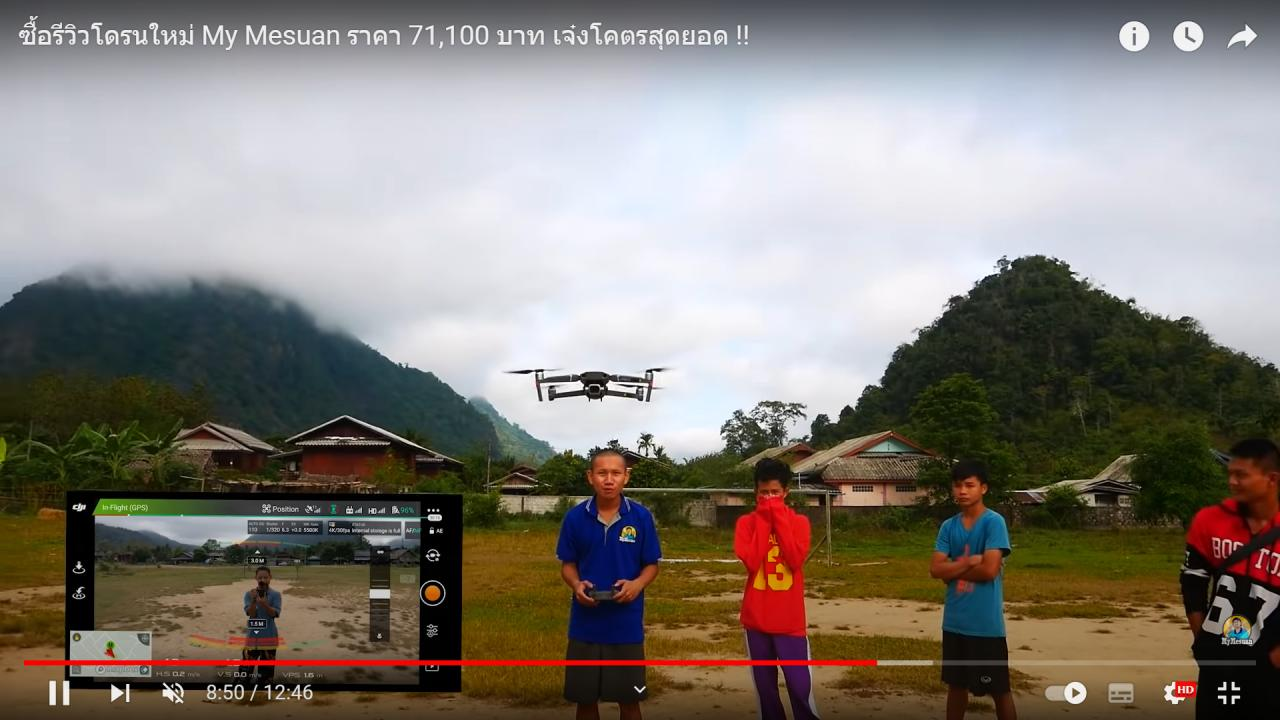Drone: (496, 358, 687, 418)
